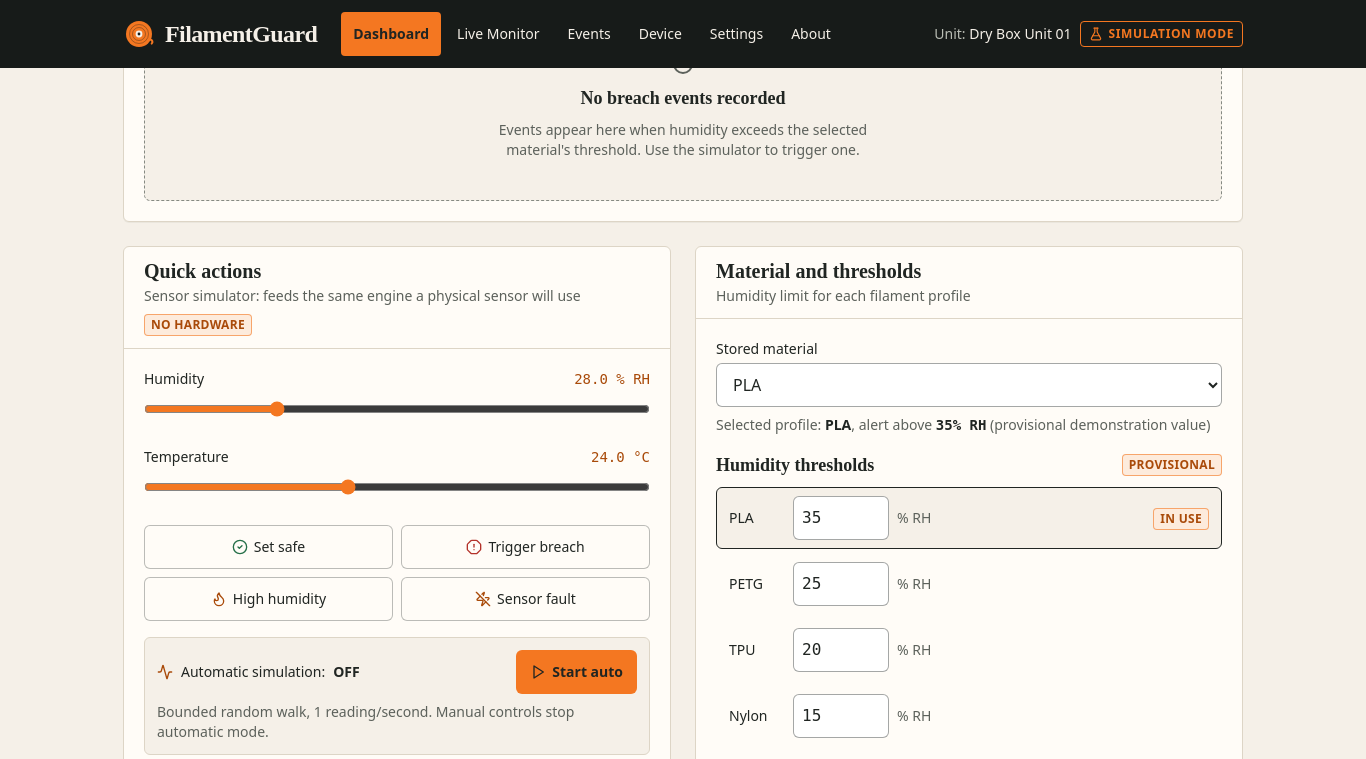
Filament Lab redesign › shows the selected material profile and provisional limit
(page scrolled)
Expected: the element with test id "selected-material-summary" shows "PLA", [825,415,851,434]
Expected: the element with test id "selected-material-summary" shows "35% RH", [716,415,1222,435]
Select "Nylon" in the dropdown labelled "Stored material". click: (969, 385)
box: [716,363,1222,407]
(page scrolled)
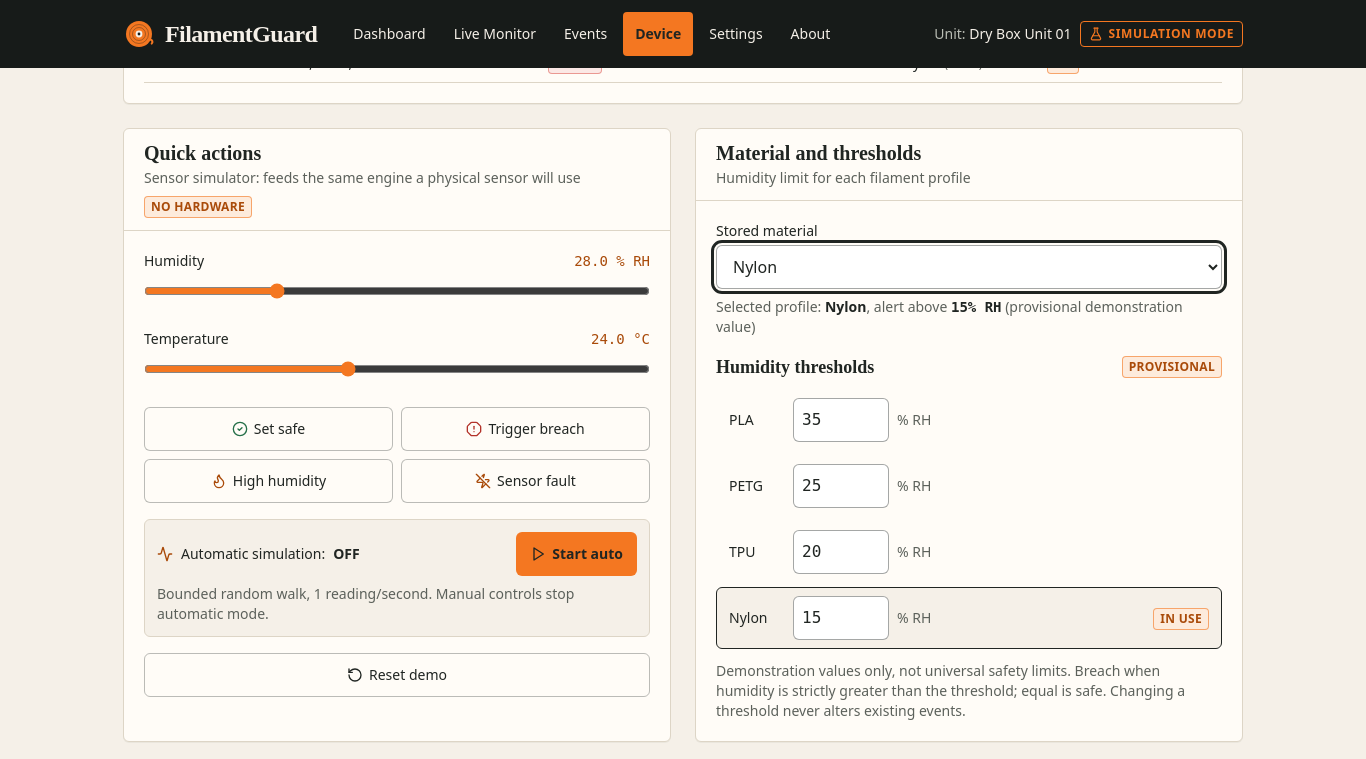
Expected: the element with test id "selected-material-summary" shows "15% RH", [716,297,1222,337]
